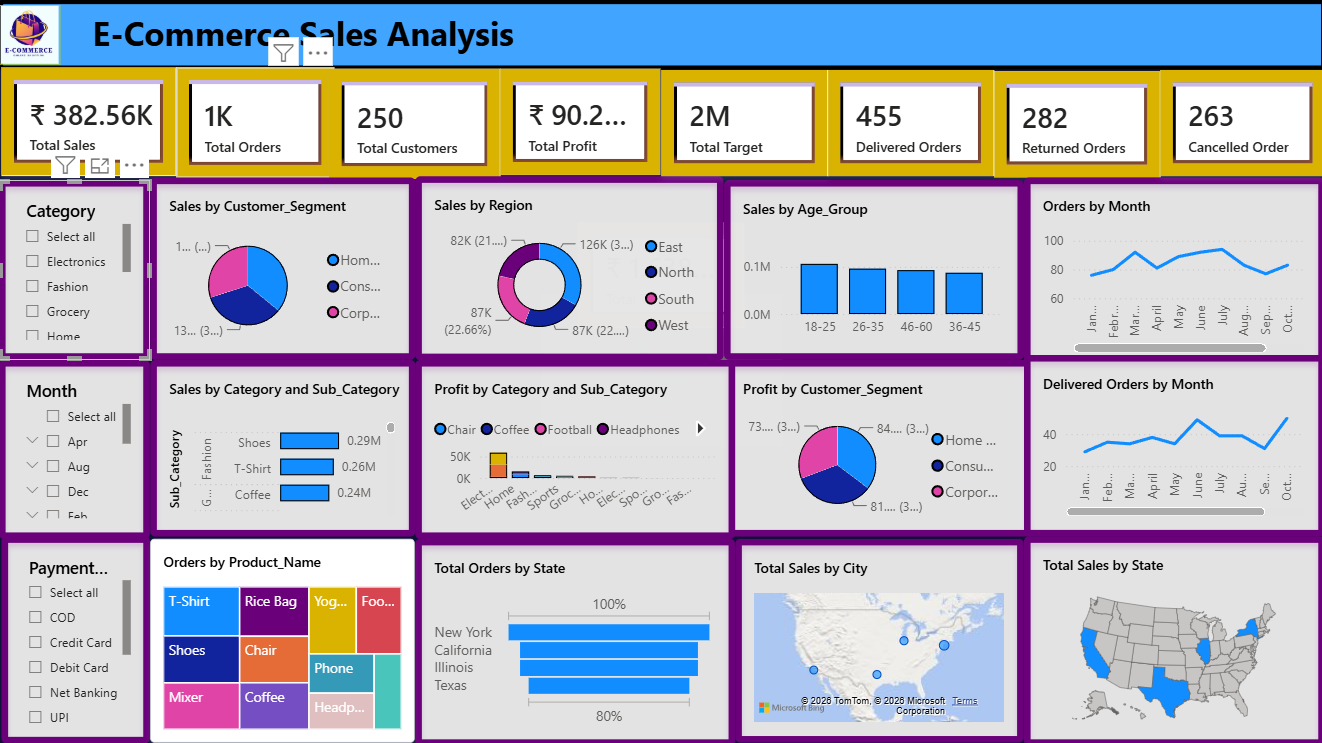

This screenshot's page, from the dashboard's own definition file:
{"tool":"powerbi","page":{"name":"Page 8","canvas":[1280,720],"ordinal":7},"visuals":[{"type":"textbox","box":[0,0,1280,67.6],"z":0},{"type":"cardVisual","fields":{"Data":["Order.Total Orders"]},"box":[3.6,67.6,152,106.2],"z":1000},{"type":"cardVisual","fields":{"Data":["Product.Total Sales"]},"box":[314.9,68.8,168.9,105],"z":2000},{"type":"cardVisual","fields":{"Data":["Customer.Total Customers"]},"box":[155.6,67.6,165.3,106.2],"z":3000},{"type":"cardVisual","fields":{"Data":["Product.Total Profit"]},"box":[483.8,68.8,154.4,102.5],"z":4000},{"type":"cardVisual","fields":{"Data":["sales details.Total Target"]},"box":[639.4,68.8,160.5,101.3],"z":5000},{"type":"cardVisual","fields":{"Data":["Order.Returned Orders"]},"box":[960.3,68.8,160.5,102.5],"z":6000},{"type":"cardVisual","fields":{"Data":["Order.Delivered Orders"]},"box":[799.9,67.6,160.5,102.5],"z":7000},{"type":"pieChart","fields":{"Category":["Customer.Customer_Segment"],"Y":["Product.Total Sales"]},"box":[146,171.3,255.8,176.1],"z":8000},{"type":"donutChart","fields":{"Category":["Customer.Region"],"Y":["Product.Total Sales"]},"box":[401.7,170.1,298,177.3],"z":9000},{"type":"columnChart","fields":{"Category":["Customer.Age_Group"],"Y":["Products.Total Sales"]},"box":[146,517.6,255.8,200.3],"z":10000},{"type":"pieChart","title":"Profit by Customer_Segment","fields":{"Category":["Customer.Customer_Segment"],"Y":["Sum(Product.Profit)"]},"box":[699.7,347.5,298,170.1],"z":11000},{"type":"lineChart","fields":{"Category":["Order.Order_Date.Variation.Date Hierarchy.Month"],"Y":["Order.Total Orders"]},"box":[989.3,171.3,290.8,188.2],"z":12000},{"type":"clusteredBarChart","fields":{"Category":["Product.Category","Product.Sub_Category"],"Y":["Product.Total Sales"]},"box":[146,347.5,255.8,170.1],"z":13000},{"type":"treemap","fields":{"Details":["Product.Category"],"Group":["Product.Product_Name"],"Values":["Order.Total Orders"]},"box":[399.3,517.6,311.3,202.7],"z":14000},{"type":"columnChart","fields":{"Category":["Product.Category"],"Series":["Product.Sub_Category"],"Y":["Product.Total Profit"]},"box":[401.7,347.5,308.8,172.5],"z":15000},{"type":"funnel","fields":{"Category":["Customer.State"],"Y":["Order.Total Orders"]},"box":[711.8,520,285.9,200.3],"z":16000},{"type":"slicer","title":"Orders by","fields":{"Values":["Orders.Order Month name","Orders.Order year"]},"box":[0,369.2,142.4,183.4],"z":17000},{"type":"cardVisual","fields":{"Data":["Order.Cancelled Order"]},"box":[1120.8,67.6,159.3,102.5],"z":18000},{"type":"lineChart","fields":{"Category":["Order.Order_Date.Variation.Date Hierarchy.Month"],"Y":["Order.Delivered Orders"]},"box":[989.3,342.6,290.8,174.9],"z":19000},{"type":"shapeMap","fields":{"Category":["Customer.State"],"Value":["Product.Total Sales"]},"box":[989.3,517.6,290.8,202.7],"z":20000},{"type":"image","box":[0,4.8,59.1,57.9],"z":21000},{"type":"listSlicer","title":" Payment_Mode","fields":{"Values":["Products.Payment_Mode"]},"box":[0,544.1,142.4,176.1],"z":22000},{"type":"waterfallChart","fields":{"Category":["Customers.City"],"Y":["Products.Total Sales"]},"box":[699.7,170.1,289.5,177.3],"z":23000},{"type":"slicer","fields":{"Values":["Products.Category"]},"box":[0,173.7,142.4,195.4],"z":23001}]}

Visuals, with their boxes in screenshot pixels (x1, y1, x2, y2):
textbox: detection(3, 0, 1307, 69)
cardVisual - Order.Total Orders: detection(7, 69, 162, 177)
cardVisual - Product.Total Sales: detection(324, 70, 496, 177)
cardVisual - Customer.Total Customers: detection(162, 69, 330, 177)
cardVisual - Product.Total Profit: detection(496, 70, 653, 174)
cardVisual - sales details.Total Target: detection(655, 70, 818, 173)
cardVisual - Order.Returned Orders: detection(982, 70, 1145, 174)
cardVisual - Order.Delivered Orders: detection(818, 69, 982, 173)
pieChart - Customer.Customer_Segment x Product.Total Sales: detection(152, 174, 413, 354)
donutChart - Customer.Region x Product.Total Sales: detection(413, 173, 716, 354)
columnChart - Customer.Age_Group x Products.Total Sales: detection(152, 527, 413, 731)
"Profit by Customer_Segment" pieChart: detection(716, 354, 1020, 527)
lineChart - Order.Order_Date.Variation.Date Hierarchy.Month x Order.Total Orders: detection(1011, 174, 1307, 366)
clusteredBarChart - Product.Category x Product.Sub_Category: detection(152, 354, 413, 527)
treemap - Product.Category x Product.Product_Name: detection(410, 527, 727, 734)
columnChart - Product.Category x Product.Sub_Category: detection(413, 354, 727, 530)
funnel - Customer.State x Order.Total Orders: detection(728, 530, 1020, 734)
"Orders by" slicer: detection(3, 376, 148, 563)
cardVisual - Order.Cancelled Order: detection(1145, 69, 1307, 173)
lineChart - Order.Order_Date.Variation.Date Hierarchy.Month x Order.Delivered Orders: detection(1011, 349, 1307, 527)
shapeMap - Customer.State x Product.Total Sales: detection(1011, 527, 1307, 734)
image: detection(3, 5, 64, 64)
" Payment_Mode" listSlicer: detection(3, 554, 148, 734)
waterfallChart - Customers.City x Products.Total Sales: detection(716, 173, 1011, 354)
slicer - Products.Category: detection(3, 177, 148, 376)
